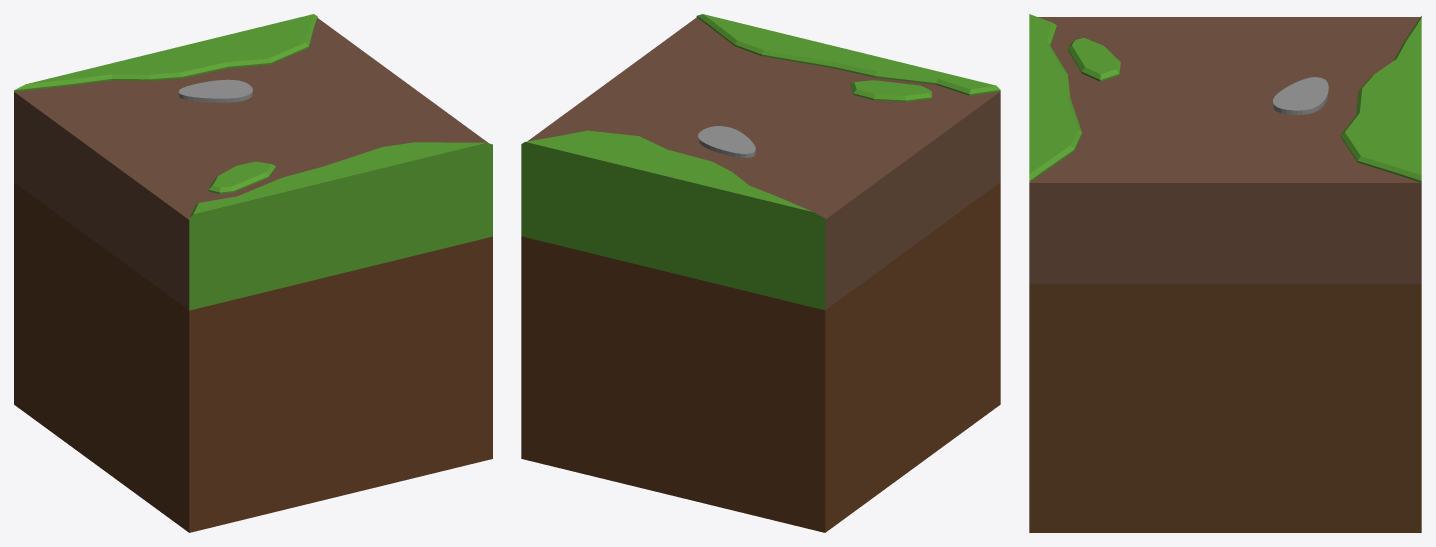
The model's file is Ground-Grass 5.fbx.
3 renders of one model, left to right at view 1: azimuth 30°, elevation 25°; view 2: azimuth 150°, elevation 25°; view 3: azimuth 270°, elevation 25°, orthographic. The views are drawn at different scales.
Parts seen in each view (by area): view 1: Grass/Ground bridge 2; view 2: Grass/Ground bridge 2; view 3: Grass/Ground bridge 2.
Part boxes in pixels (box(x1,y1,x2,y2)): Grass/Ground bridge 2: box(14, 14, 492, 532); Grass/Ground bridge 2: box(521, 14, 1000, 532); Grass/Ground bridge 2: box(1029, 14, 1421, 532).
Bounding box in the file's own units: 2 × 2 × 2.
